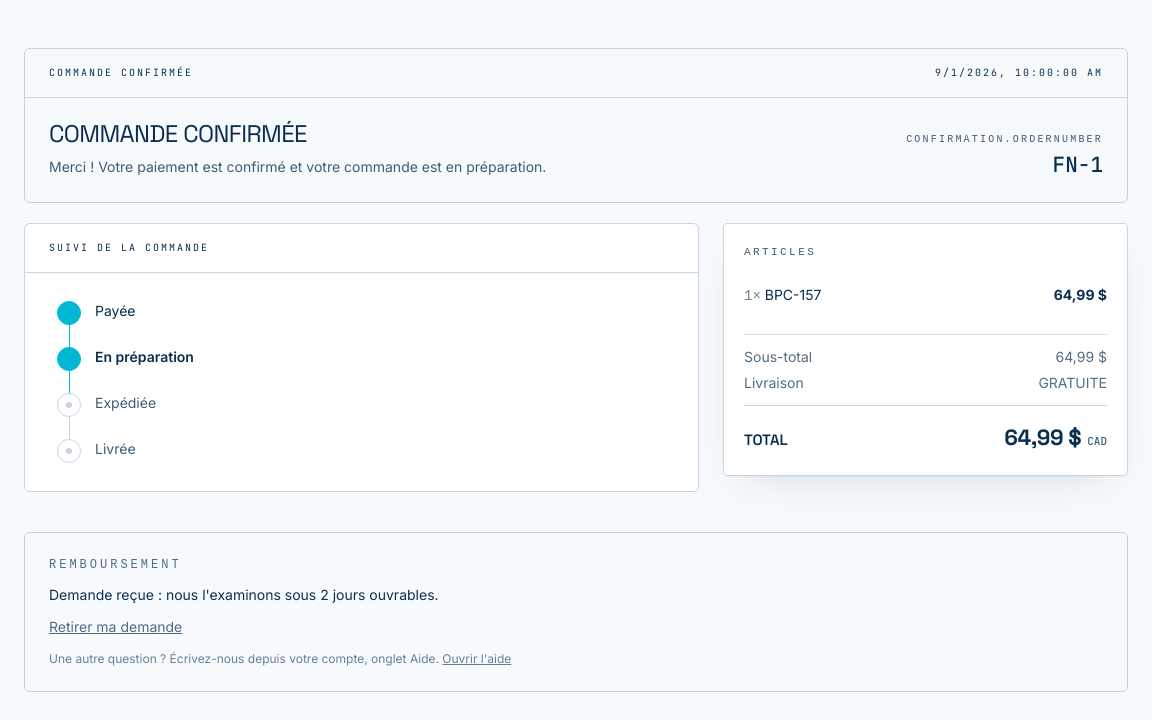
Scenario: le refus du serveur s'affiche au lieu de disparaitre
Click the button with test id "refund-withdraw".
click(116, 627)  # box x1=49 y1=617 x2=182 y2=637
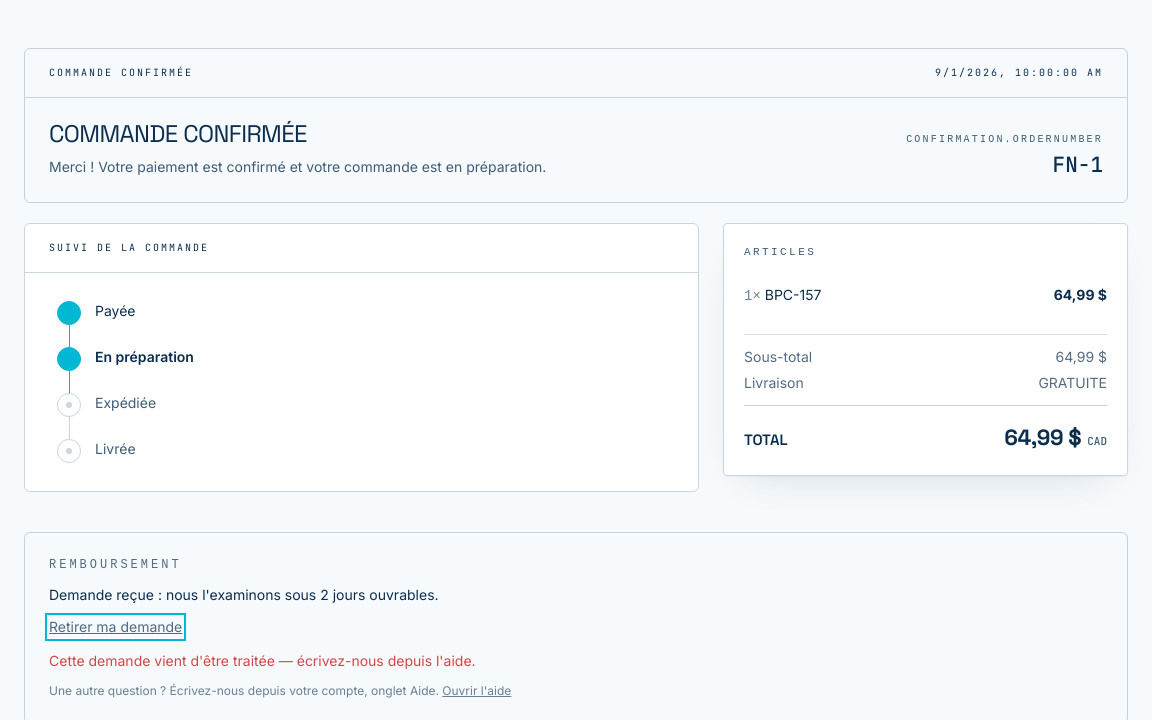
Now the text with test id "refund-error" shows "vient d'être traitée", box x1=49 y1=652 x2=476 y2=669
